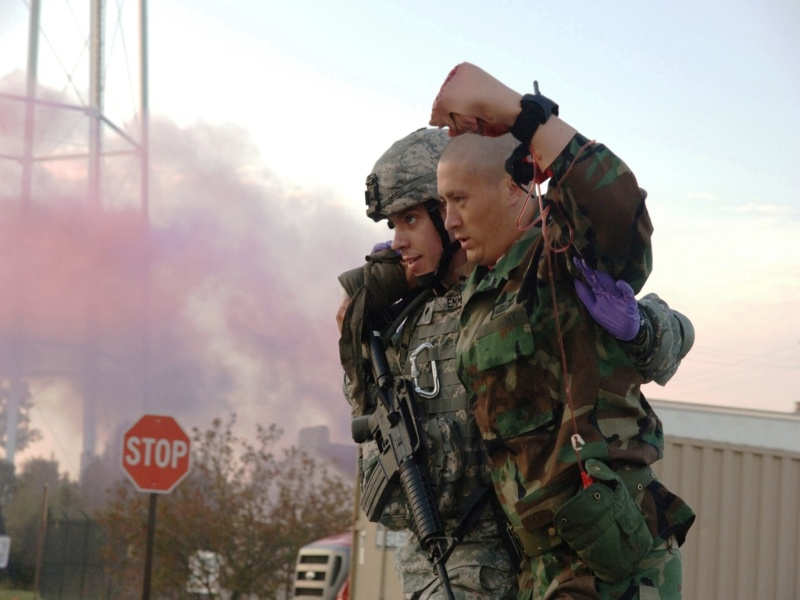stop: (116, 414, 198, 500)
